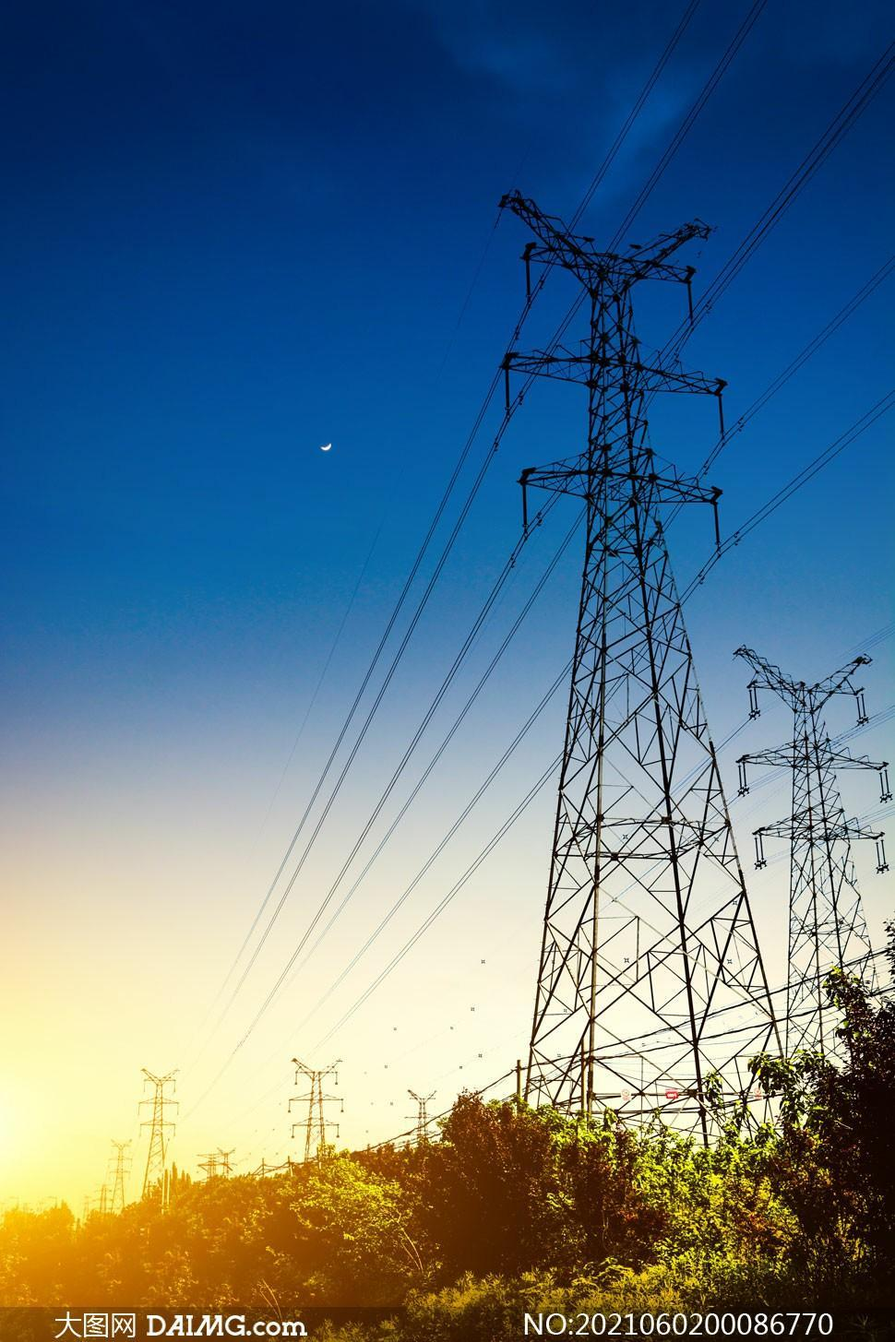power_tower: (482, 184, 784, 1147), (727, 622, 886, 1120), (279, 1044, 367, 1182), (131, 1066, 190, 1195), (391, 1072, 443, 1164)
